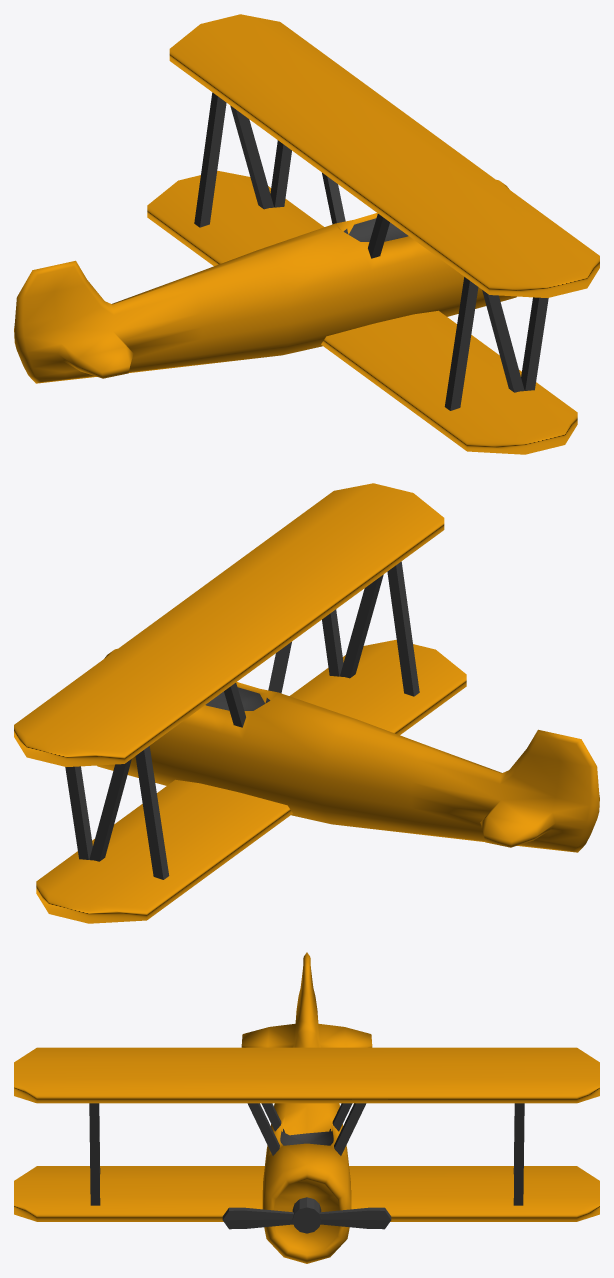
3 renders of one model, top to bottom at view 1: azimuth 30°, elevation 25°; view 2: azimuth 150°, elevation 25°; view 3: azimuth 270°, elevation 25°, orthographic. The views are drawn at different scales.
Visible parts, largest first — view 1: upperWing, body, lowerWing, supports; view 2: upperWing, body, lowerWing, supports; view 3: upperWing, lowerWing, body, supports, propeller.
Boxes of the visible parts, x1=… form: upperWing: x1=169, y1=14, x2=599, y2=297; body: x1=14, y1=179, x2=516, y2=383; lowerWing: x1=147, y1=171, x2=577, y2=454; supports: x1=194, y1=92, x2=548, y2=410; upperWing: x1=14, y1=483, x2=444, y2=766; body: x1=97, y1=648, x2=599, y2=852; lowerWing: x1=36, y1=640, x2=466, y2=923; supports: x1=65, y1=561, x2=419, y2=879; upperWing: x1=14, y1=1047, x2=599, y2=1103; lowerWing: x1=14, y1=1166, x2=599, y2=1221; body: x1=241, y1=952, x2=372, y2=1263; supports: x1=89, y1=1103, x2=524, y2=1205; propeller: x1=222, y1=1197, x2=391, y2=1233.
Bounding box in the file's own units: 9.18 × 3.09 × 10.86.
